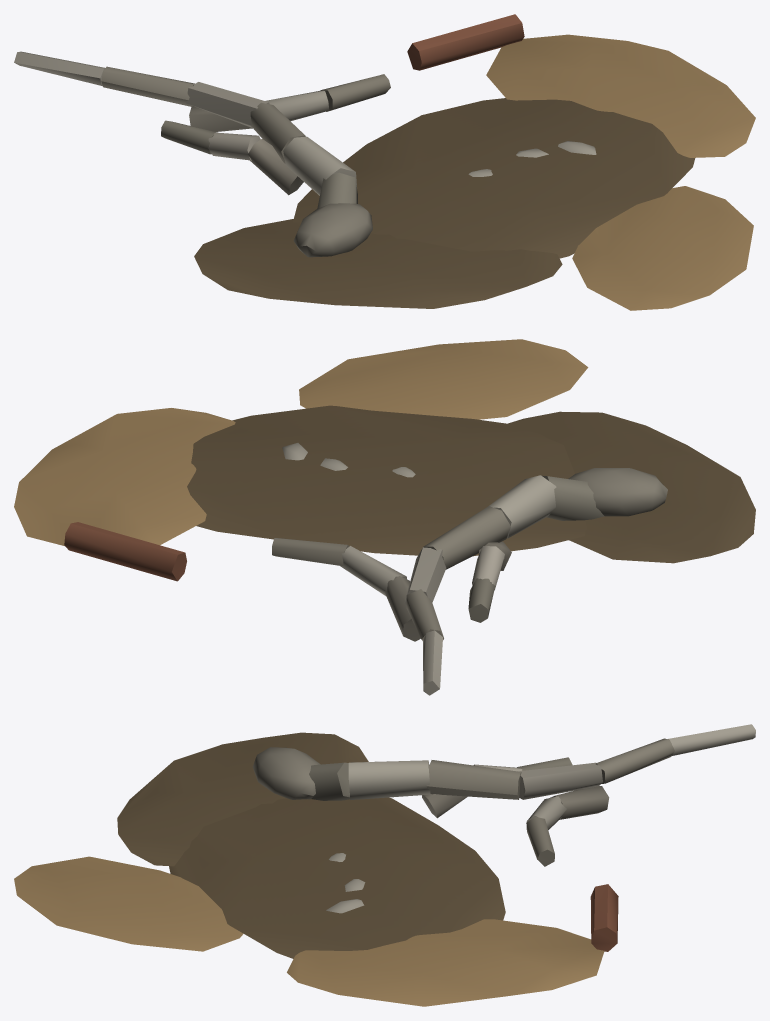
File: fulgurite_c_lod1.glb
The picture shows the model from 3 angles, top to bottom: view 1: azimuth 30°, elevation 25°; view 2: azimuth 150°, elevation 25°; view 3: azimuth 270°, elevation 25°; orthographic projection. The views are drawn at different scales.
Parts seen in each view (by area): view 1: Surface.001; view 2: Surface.001; view 3: Surface.001.
Part boxes in pixels (bbox=[...]): Surface.001: bbox=[14, 14, 755, 310]; Surface.001: bbox=[14, 339, 755, 695]; Surface.001: bbox=[14, 724, 755, 1006].
Bounding box in the file's own units: 2.86 × 0.308 × 3.3.
